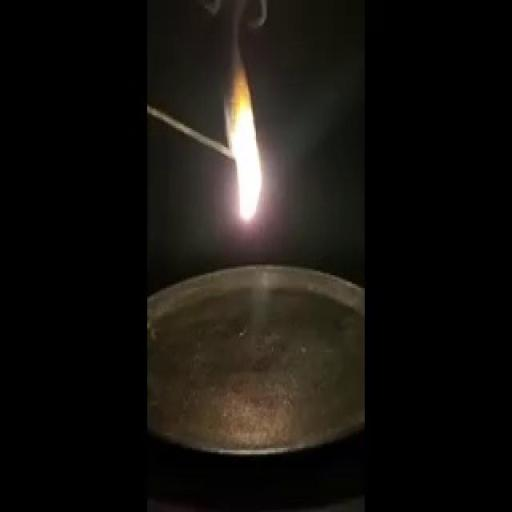smoke: (219, 36, 280, 237)
